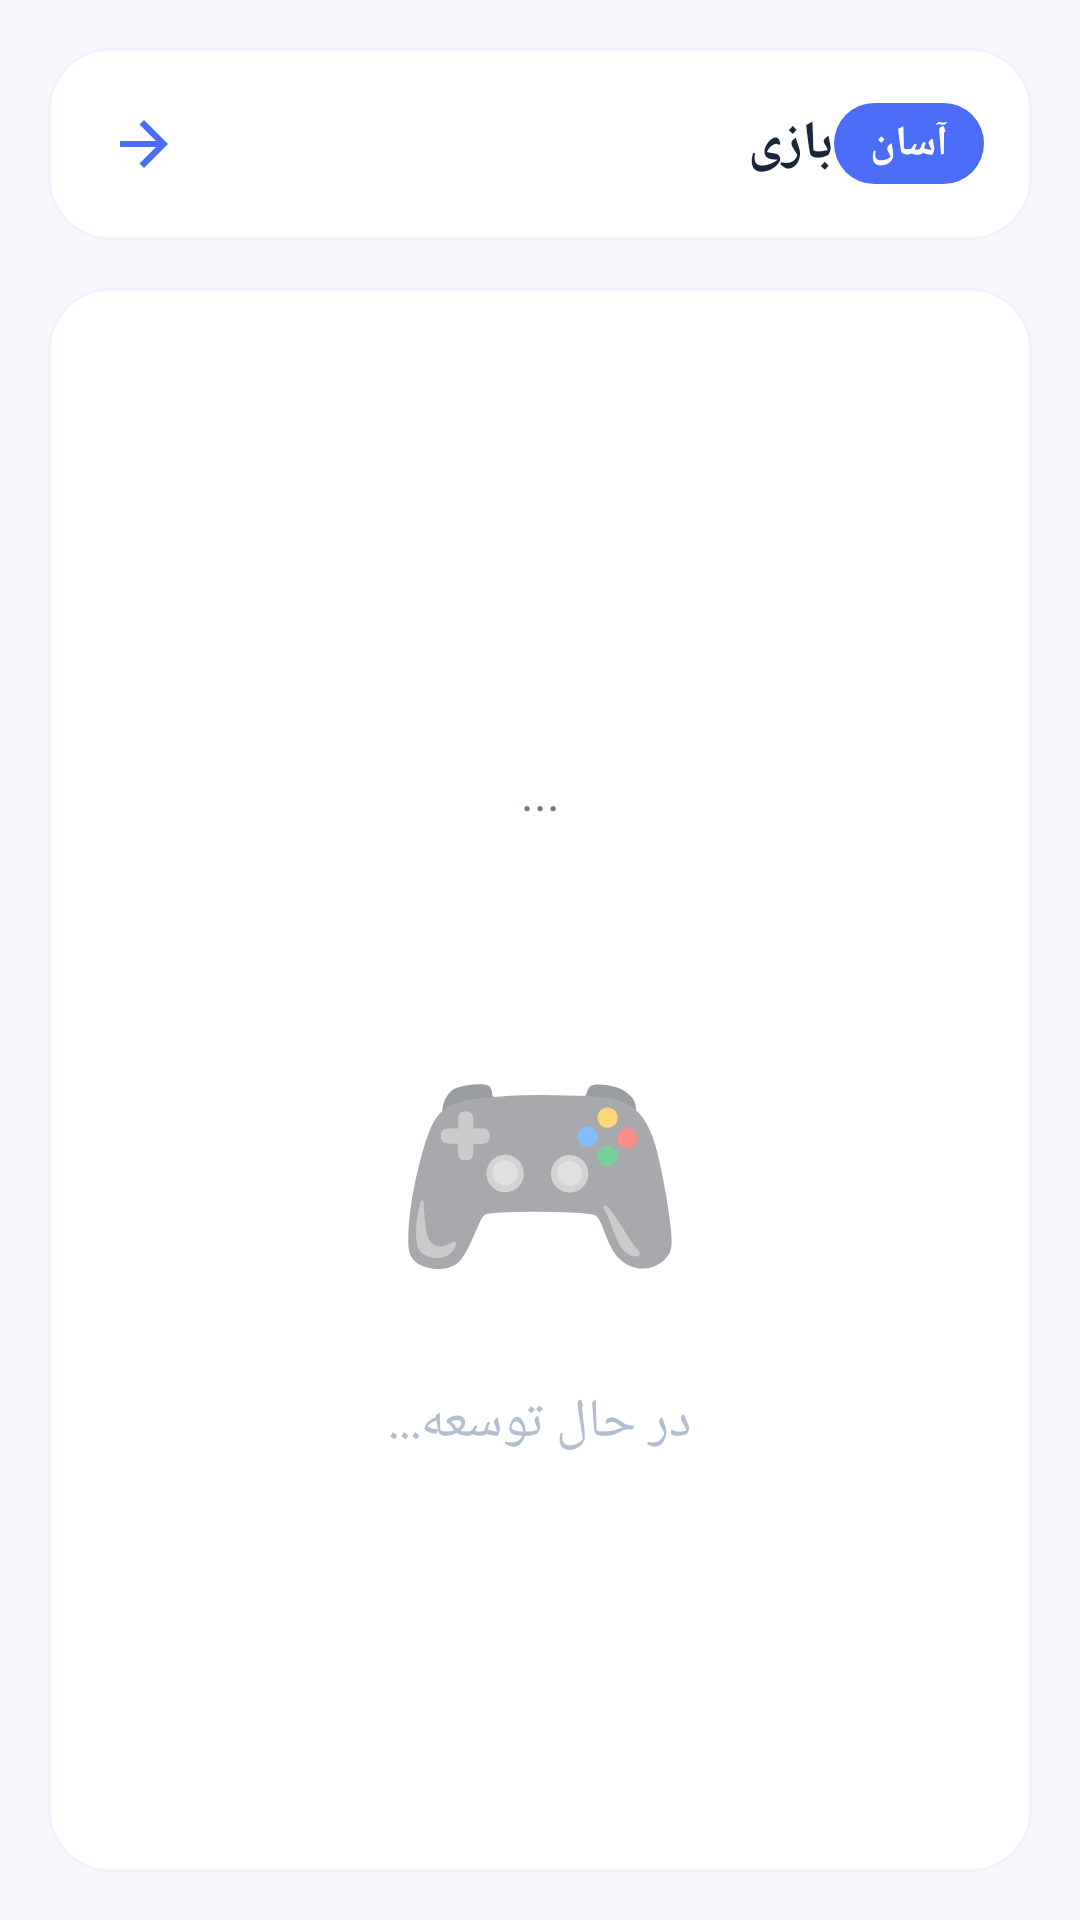

Point at icon controls on the screen. Image size 1080w x 1920h, points as (x,y).
arrow right: (144,144)
